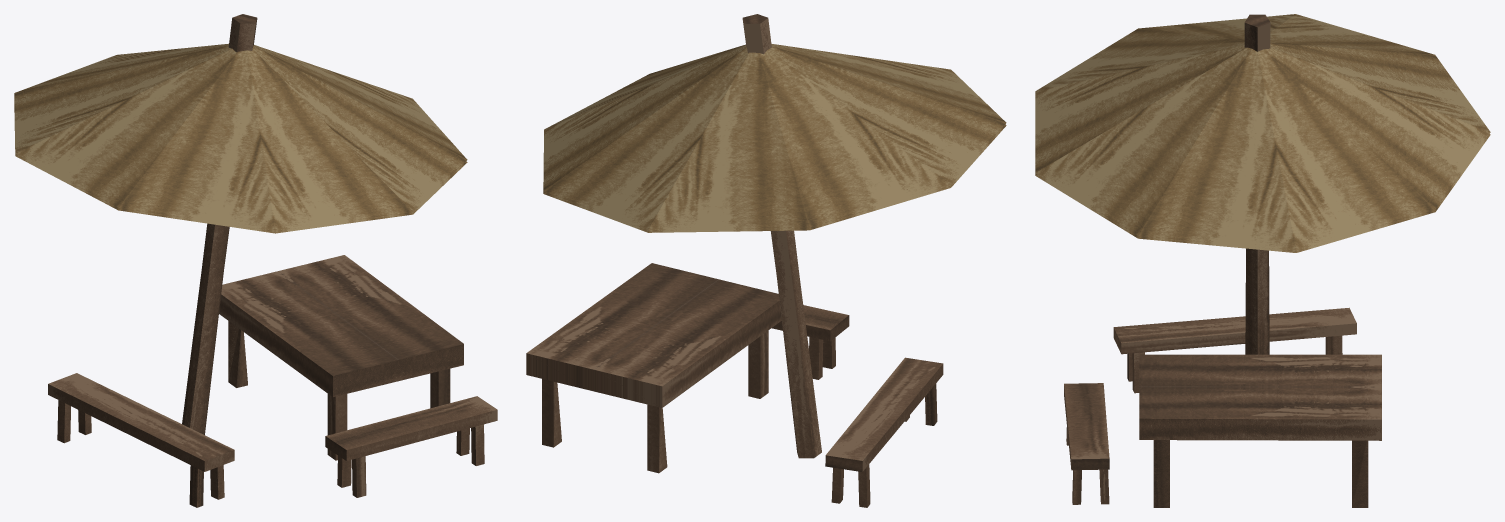
Rendered from XiaoTan01.fbx.
3 renders of one model, left to right at view 1: azimuth 30°, elevation 25°; view 2: azimuth 150°, elevation 25°; view 3: azimuth 270°, elevation 25°, orthographic. The views are drawn at different scales.
Parts seen in each view (by area): view 1: 4_XiaoTan01; view 2: 4_XiaoTan01; view 3: 4_XiaoTan01.
Boxes of the visible parts, <box> form: 4_XiaoTan01: <box>14,14,497,507</box>; 4_XiaoTan01: <box>526,14,1006,507</box>; 4_XiaoTan01: <box>1035,14,1490,507</box>.
Bounding box in the file's own units: 166 × 165 × 164.
